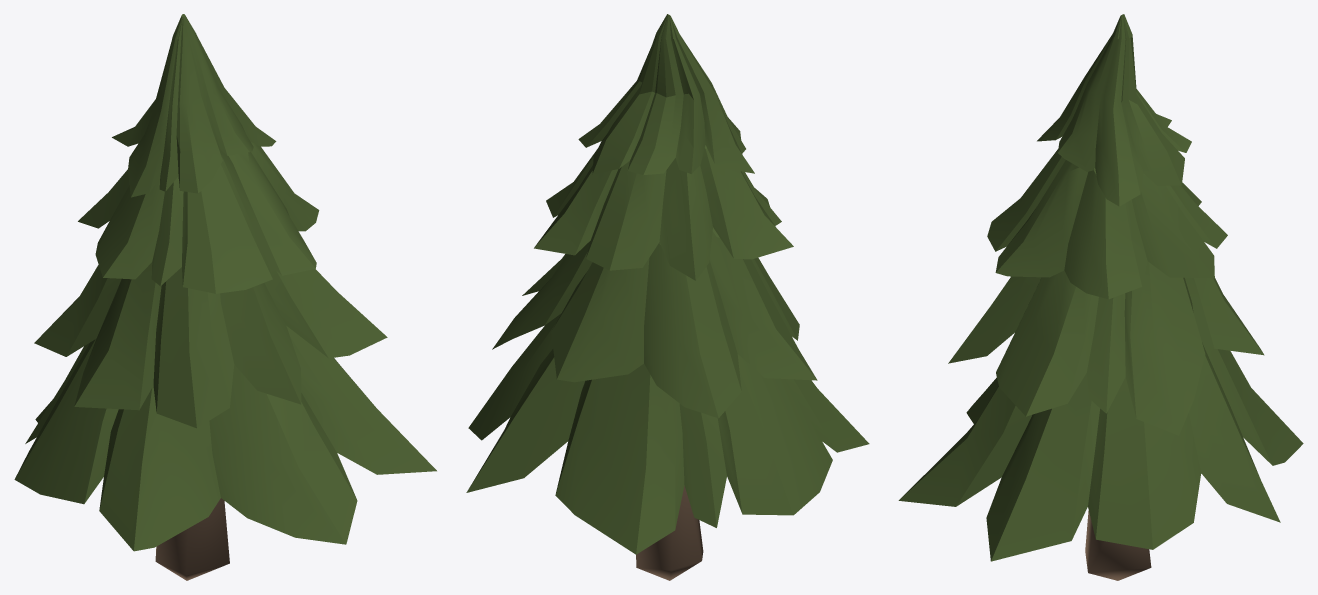
Rendered from GrantræLOD0.fbx.
3 views of the same model, side by side, from view 1: azimuth 30°, elevation 25°; view 2: azimuth 150°, elevation 25°; view 3: azimuth 270°, elevation 25° (orthographic).
Parts seen in each view (by area): view 1: Circle.007, Vert; view 2: Circle.007, Vert; view 3: Circle.007, Vert.
Part boxes in pixels (x1,y1,x2,y2): Circle.007: (14,14,436,551); Vert: (155,498,229,580); Circle.007: (466,14,869,554); Vert: (636,486,703,580); Circle.007: (898,14,1303,561); Vert: (1085,510,1151,580).
Bounding box in the file's own units: 263 × 424 × 275.
